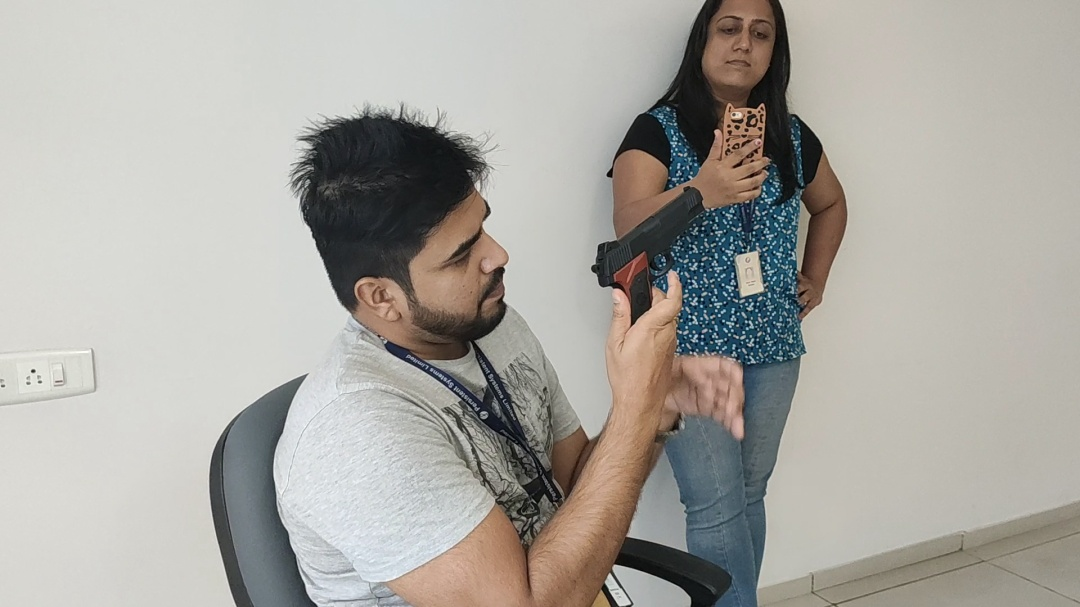gun: (237, 33, 981, 516)
